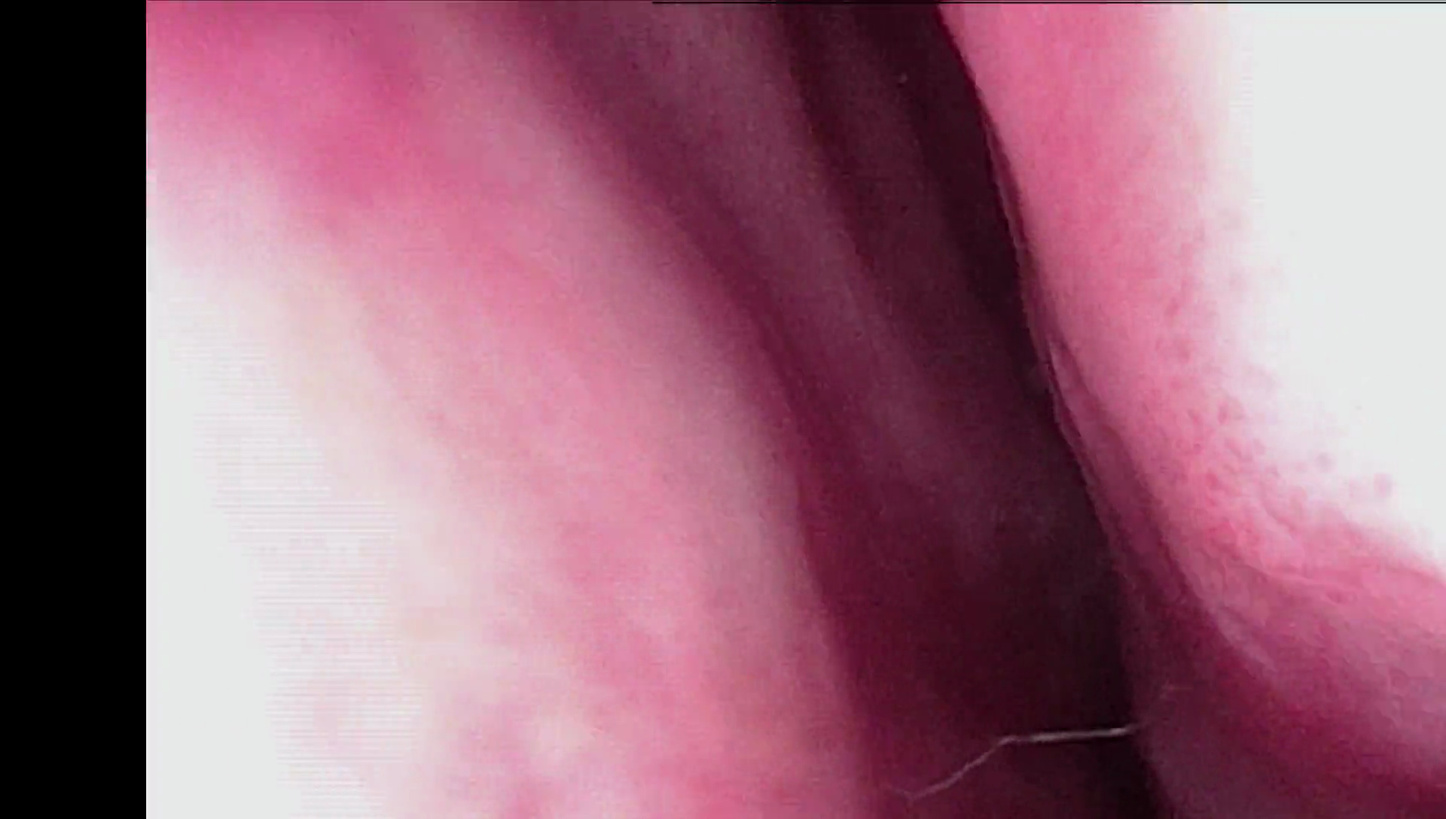close_wall: (152, 153, 725, 819), (1132, 0, 1446, 584)
next: (959, 577, 1187, 819)
